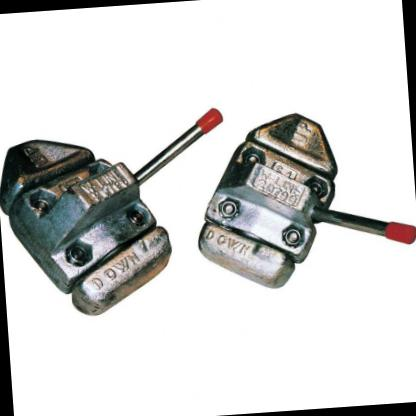Twistlock: (0, 85, 239, 347), (188, 102, 415, 299)
